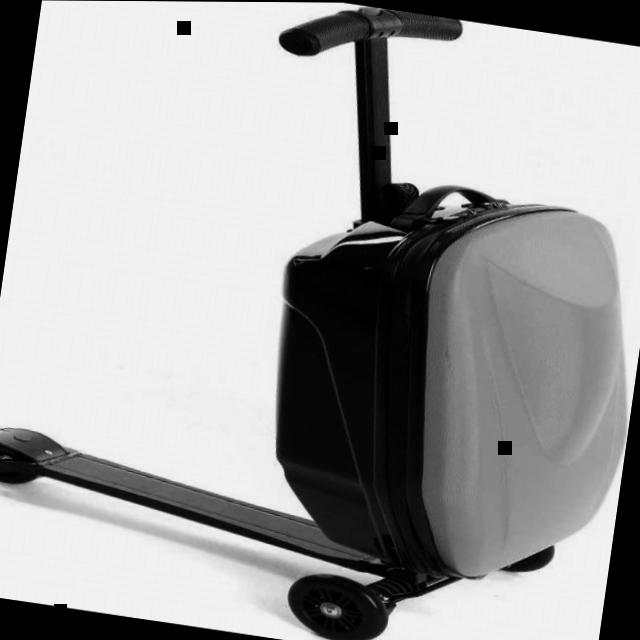luggage: (240, 148, 640, 593)
